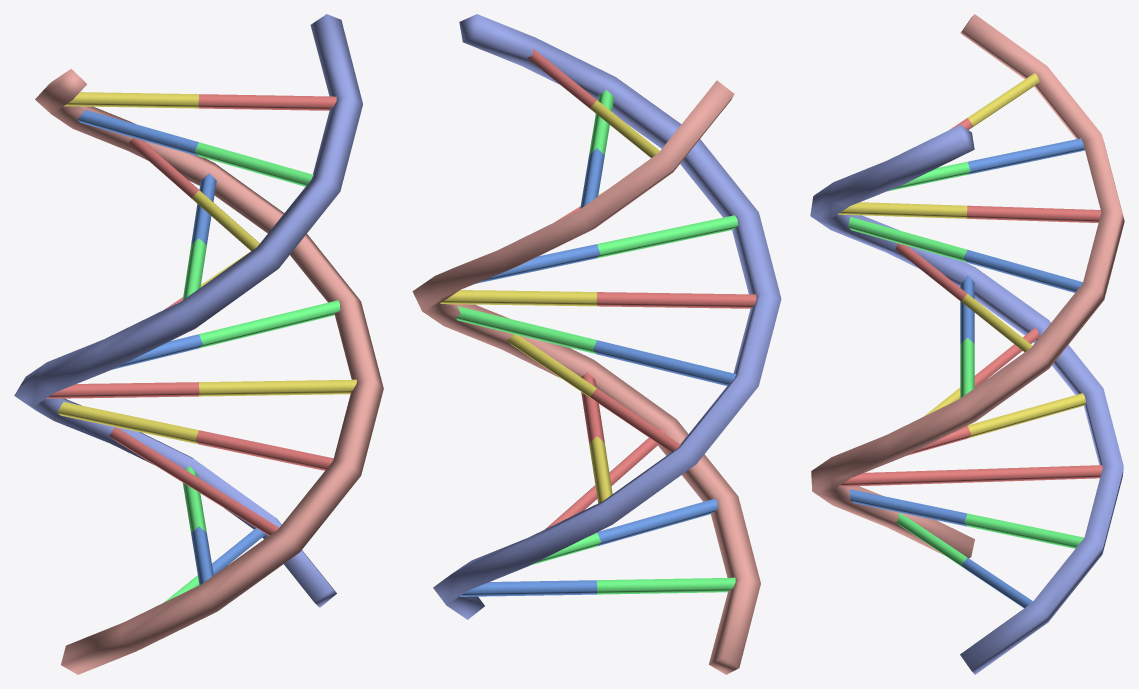
File: DNA.fbx
The picture shows the model from 3 angles, left to right: view 1: azimuth 30°, elevation 25°; view 2: azimuth 150°, elevation 25°; view 3: azimuth 270°, elevation 25°; orthographic projection. The views are drawn at different scales.
Visible parts, largest first — view 1: Spiral.001; view 2: Spiral.001; view 3: Spiral.001.
Part boxes in pixels (x1,y1,x2,y2): Spiral.001: (14, 14, 383, 674); Spiral.001: (412, 14, 781, 674); Spiral.001: (810, 14, 1124, 674).
Bounding box in the file's own units: 35.3 × 62.52 × 32.41.
